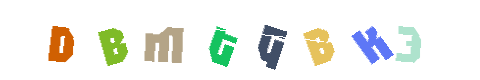3: (332, 0, 412, 80)
B: (73, 0, 153, 80), (231, 0, 311, 80)
D: (21, 0, 101, 80)
G: (201, 0, 281, 80)
K: (306, 0, 386, 80)
M: (181, 0, 261, 80)
T: (181, 0, 261, 80)
